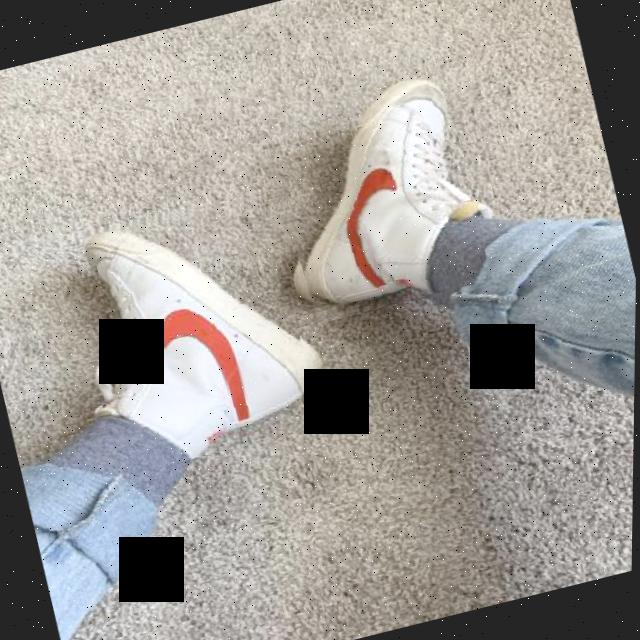shoe: (49, 186, 325, 479), (253, 68, 495, 327)
